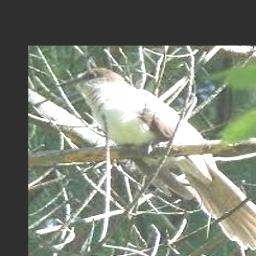Cuckoo: (55, 68, 256, 249)
